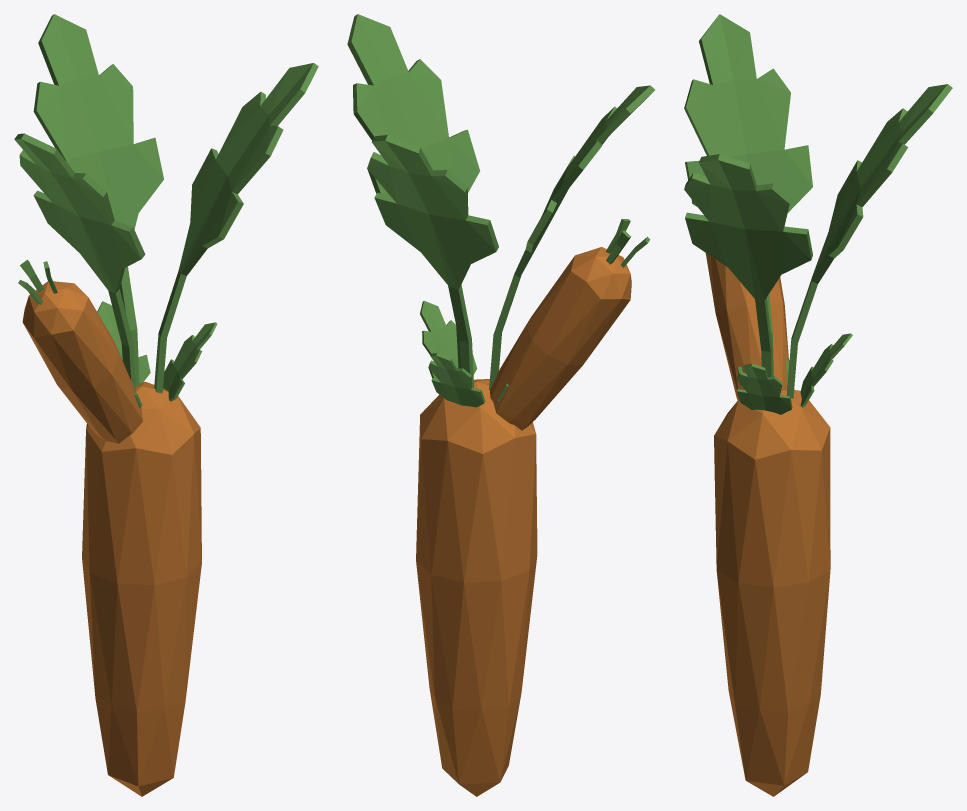
File: Carrot.fbx
3 renders of one model, left to right at view 1: azimuth 30°, elevation 25°; view 2: azimuth 150°, elevation 25°; view 3: azimuth 270°, elevation 25°, orthographic.
Parts seen in each view (by area): view 1: Carrot_Plant, Carrot_Crop, Carrot_Sprout; view 2: Carrot_Plant, Carrot_Crop, Carrot_Sprout; view 3: Carrot_Plant, Carrot_Crop, Carrot_Sprout.
Part boxes in pixels (x1,y1,x2,y2): Carrot_Plant: [14, 14, 318, 796]; Carrot_Crop: [18, 259, 142, 443]; Carrot_Sprout: [97, 301, 217, 407]; Carrot_Plant: [347, 14, 655, 796]; Carrot_Crop: [490, 219, 650, 430]; Carrot_Sprout: [420, 300, 508, 407]; Carrot_Plant: [684, 14, 952, 796]; Carrot_Crop: [705, 253, 788, 400]; Carrot_Sprout: [737, 333, 852, 414].
Bounding box in the file's own units: 0.8548 × 1.97 × 0.6736.
